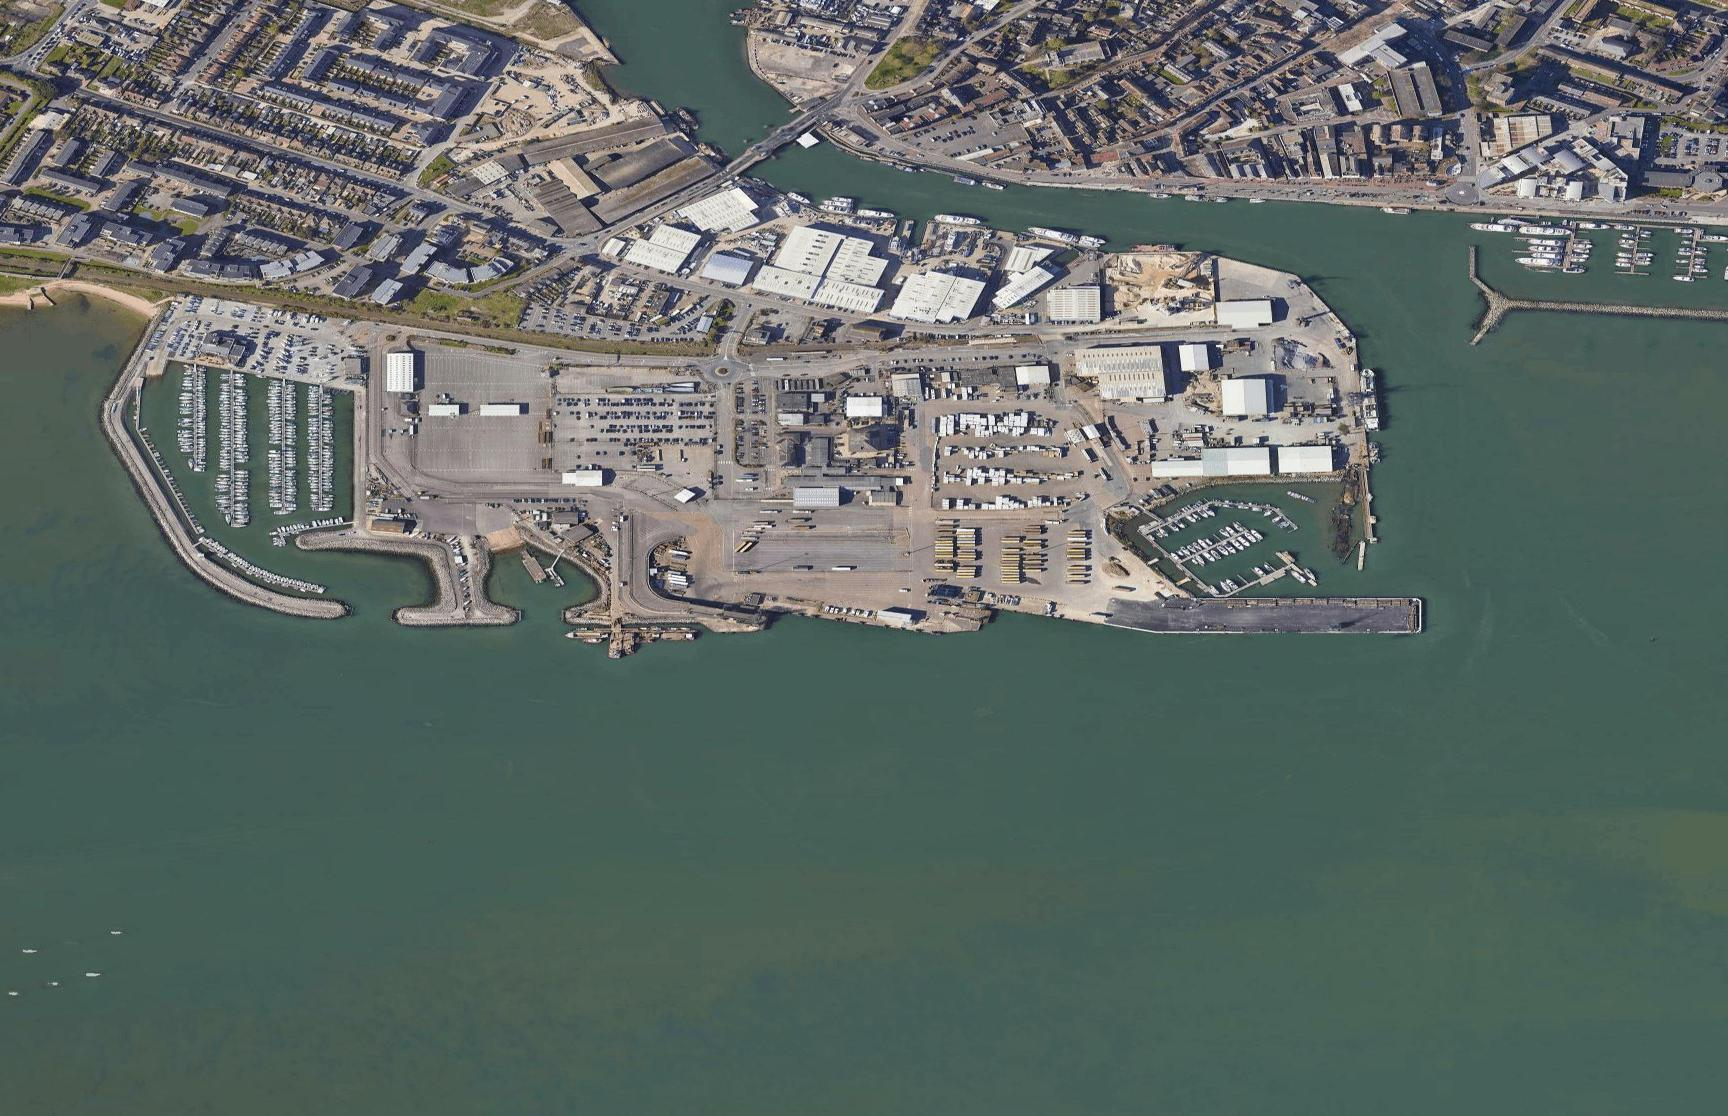bridge: (730, 110, 814, 170)
harbor: (88, 231, 1428, 681)
